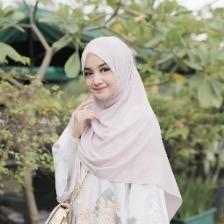HijabSyar-i: (50, 33, 184, 222)
